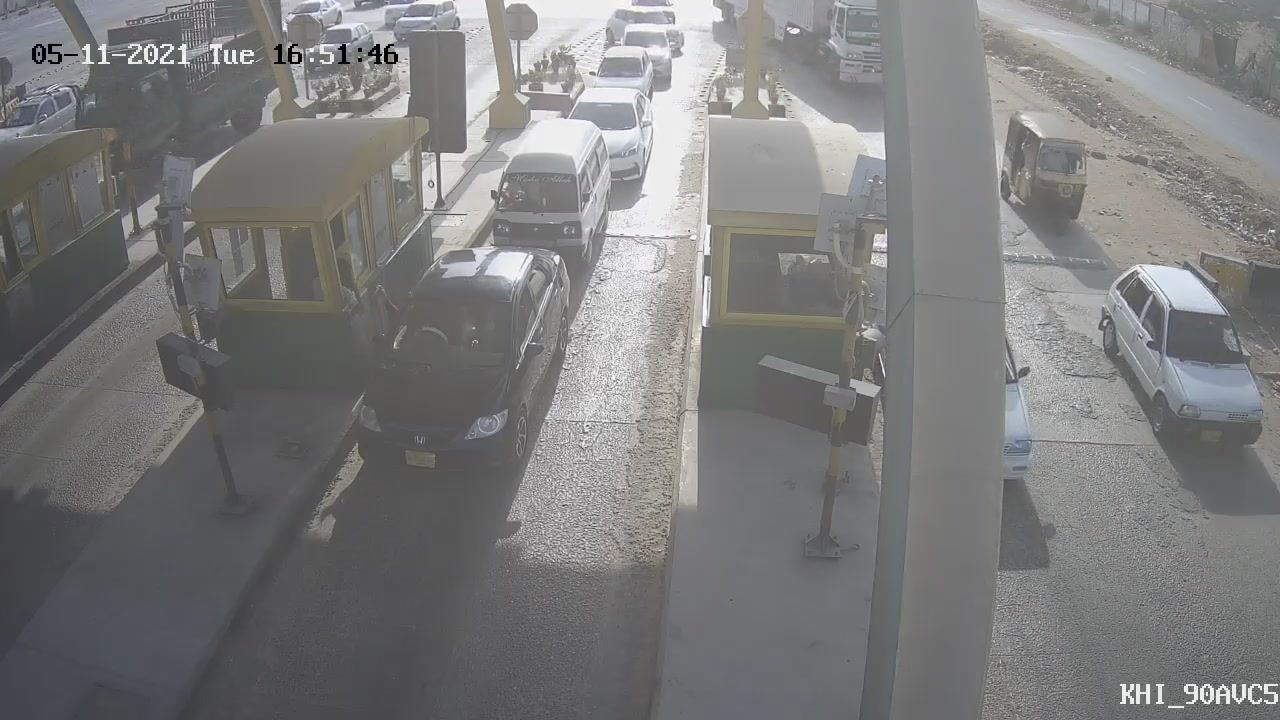F1: (334, 224, 594, 505), (470, 107, 631, 288)
